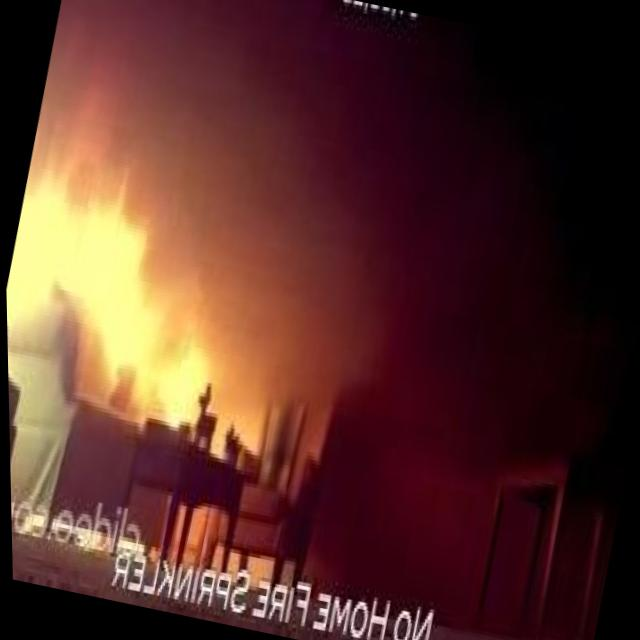fire: (3, 151, 193, 332), (83, 274, 175, 401), (148, 337, 211, 420)
